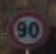limite 90: (5, 11, 50, 48)
